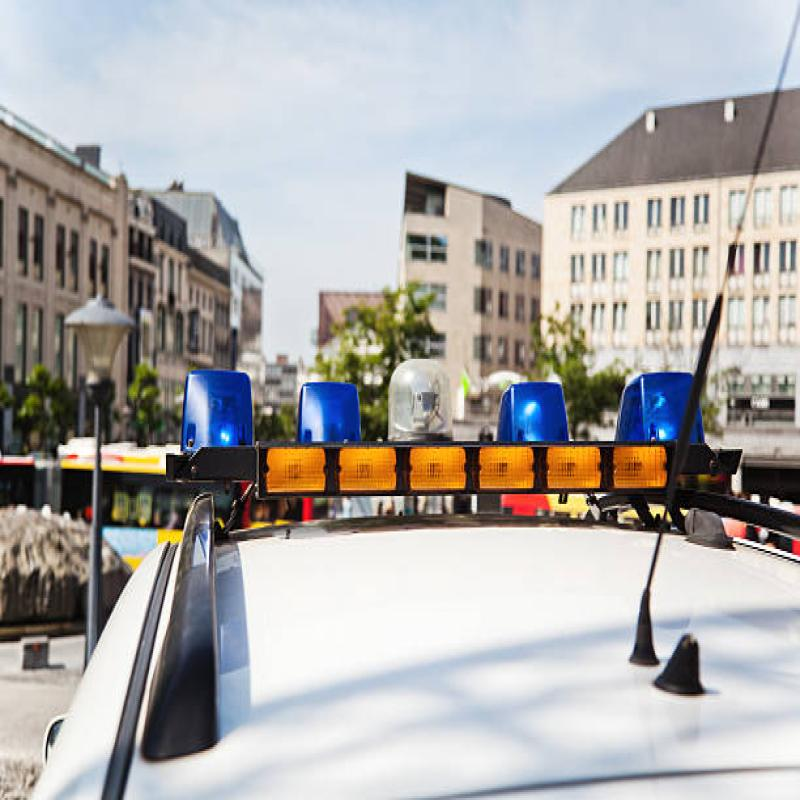AmbulanceSiren: (157, 358, 746, 488)
